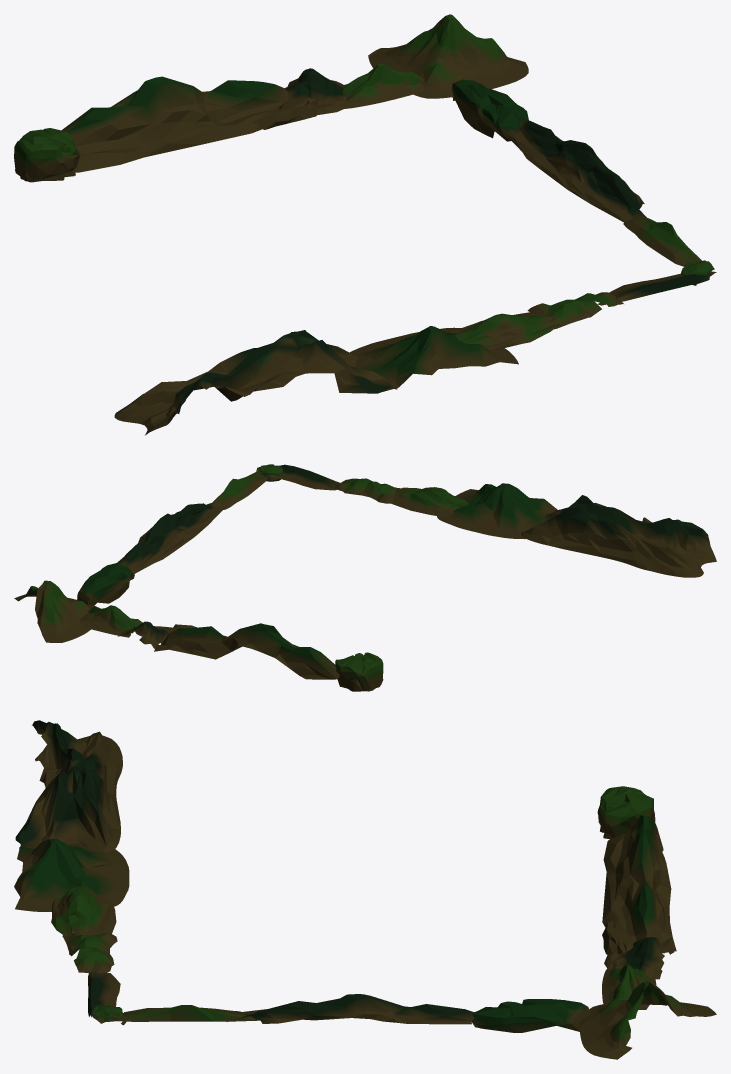
The model's file is Mesh_Woods_Devertex.fbx.
3 renders of one model, top to bottom at view 1: azimuth 30°, elevation 25°; view 2: azimuth 150°, elevation 25°; view 3: azimuth 270°, elevation 25°, orthographic. The views are drawn at different scales.
Parts seen in each view (by area): view 1: Map_Woods_Mount; view 2: Map_Woods_Mount; view 3: Map_Woods_Mount.
Boxes of the visible parts, x1=… form: Map_Woods_Mount: x1=14, y1=14, x2=716, y2=435; Map_Woods_Mount: x1=14, y1=464, x2=716, y2=691; Map_Woods_Mount: x1=14, y1=720, x2=716, y2=1059.
Bounding box in the file's own units: 304015 × 30433 × 280827.
